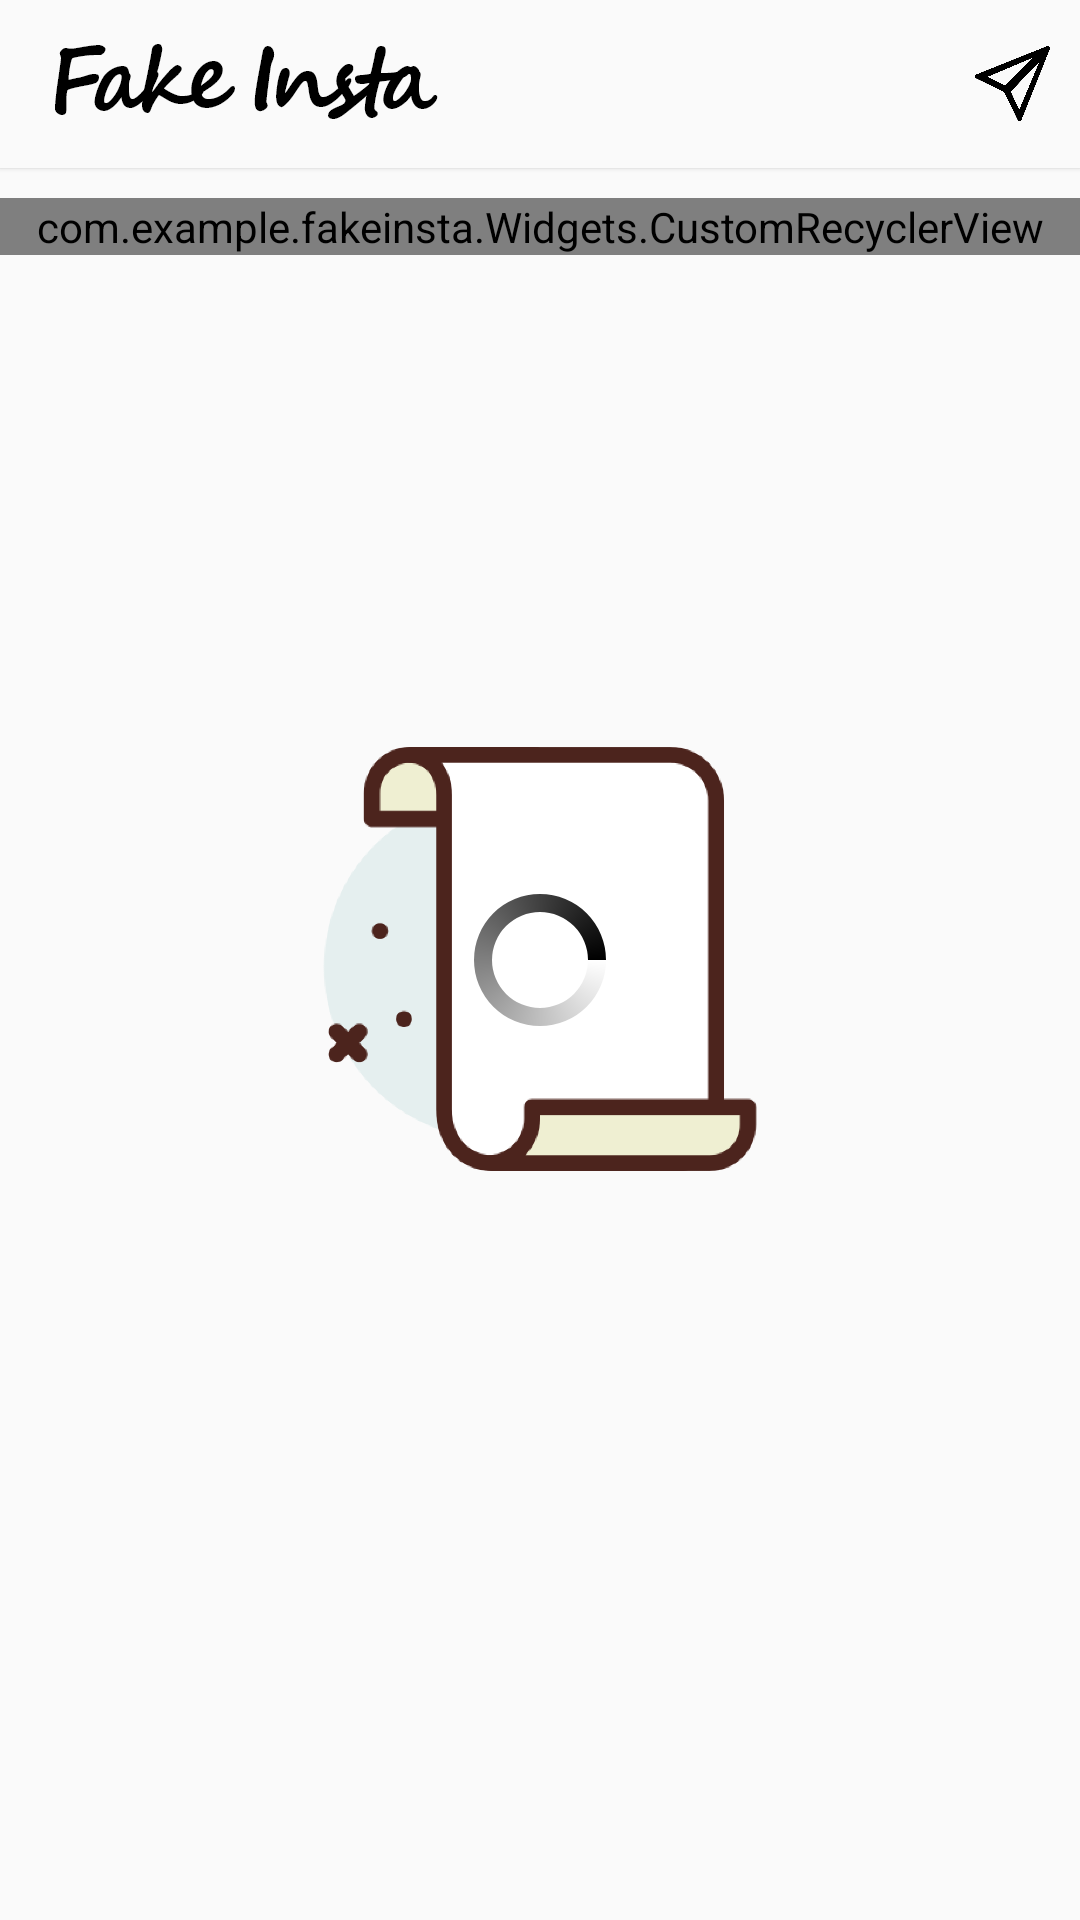

Where to tap for icons on this 1080*1920 app screen, as point (x, y):
send: point (1012, 83)
